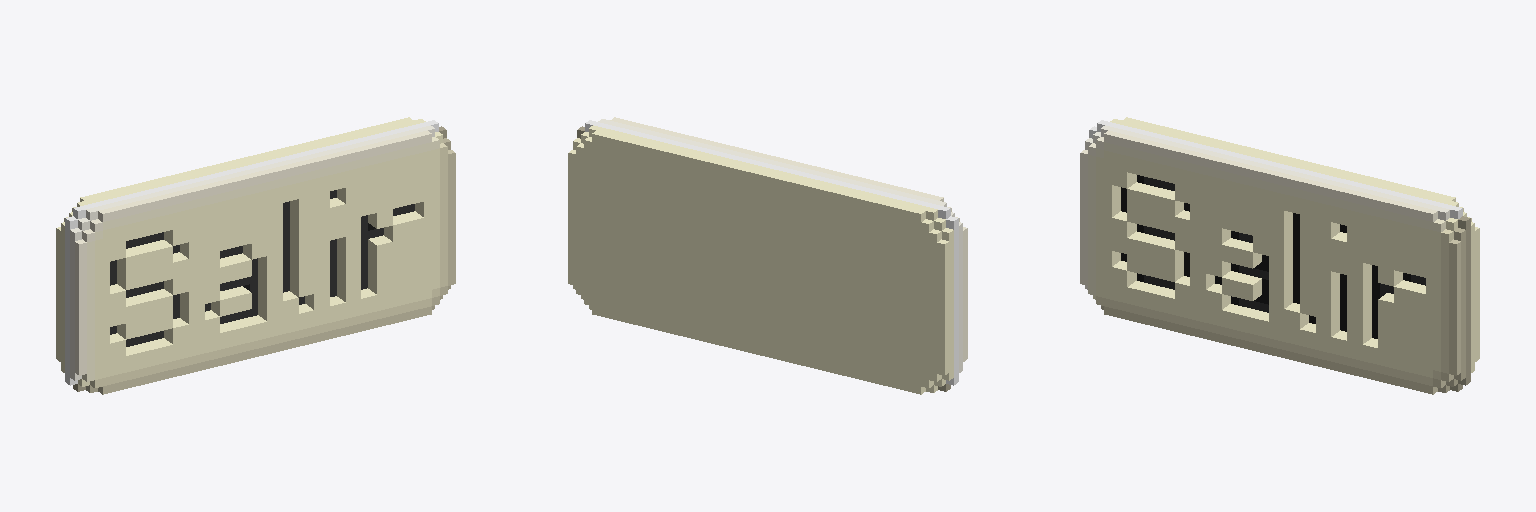
3 views of the same model, side by side, from view 1: azimuth 30°, elevation 25°; view 2: azimuth 150°, elevation 25°; view 3: azimuth 330°, elevation 25° (orthographic).
Visible parts, largest first — view 1: object 1; view 2: object 1; view 3: object 1.
Boxes of the visible parts, box(x1,y1,x2,y2) form: object 1: box(56, 117, 455, 394); object 1: box(568, 117, 967, 394); object 1: box(1080, 117, 1479, 394).
Bounding box in the file's own units: 4.8 × 2.2 × 0.5.
Materials: 1 (1 with a texture image).